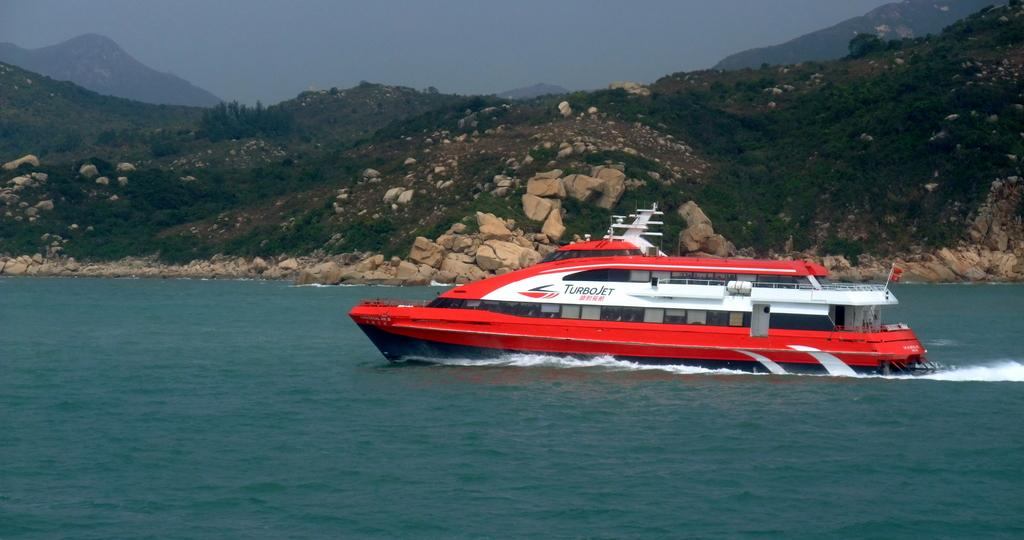PassengerShip: (338, 200, 954, 388)
